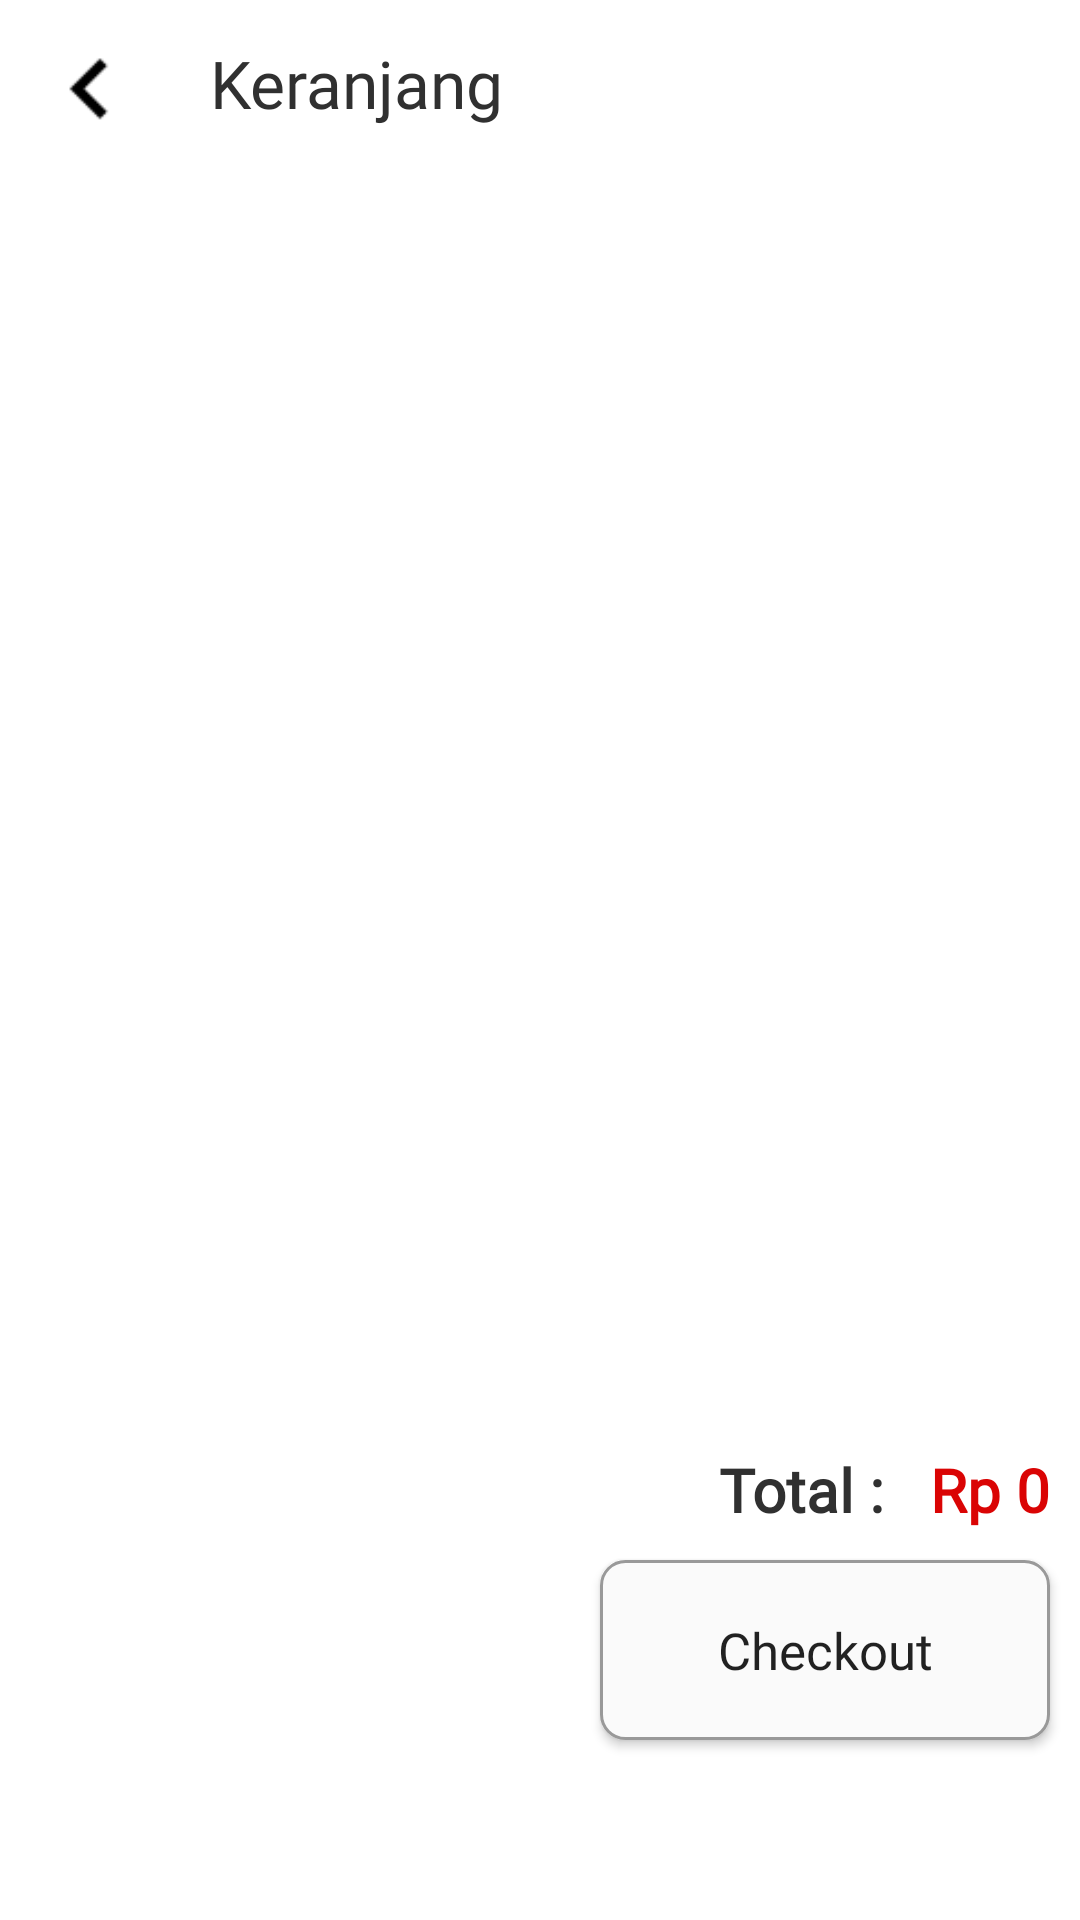

Icon bounding boxes for this 1080 × 1920 phone screenshot, format (x1, y1, x2, y2):
arrow left: (69, 58, 108, 120)
